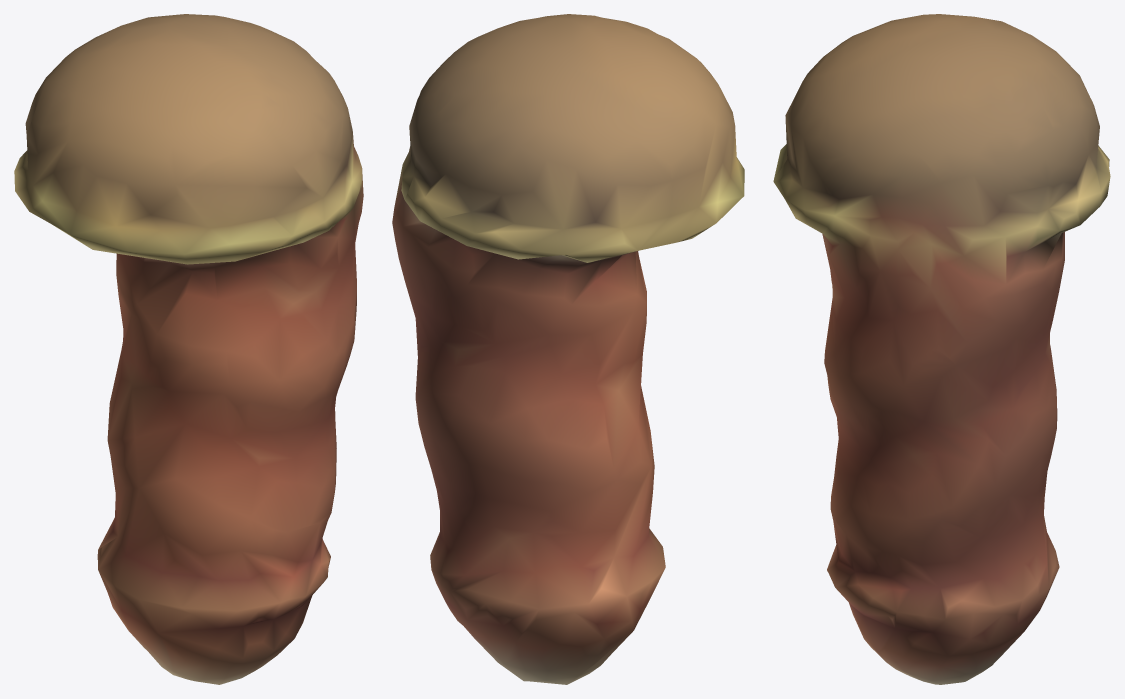
The model's file is hero_uarm_l.glb.
The picture shows the model from 3 angles, left to right: view 1: azimuth 30°, elevation 25°; view 2: azimuth 150°, elevation 25°; view 3: azimuth 270°, elevation 25°; orthographic projection. The views are drawn at different scales.
Parts seen in each view (by area): view 1: geometry_0; view 2: geometry_0; view 3: geometry_0.
Part boxes in pixels (left/top/right/bottom): geometry_0: left=14, top=14, right=363, bottom=684; geometry_0: left=392, top=14, right=744, bottom=684; geometry_0: left=773, top=14, right=1110, bottom=684.
Bounding box in the file's own units: 0.1959 × 0.3917 × 0.1894.
